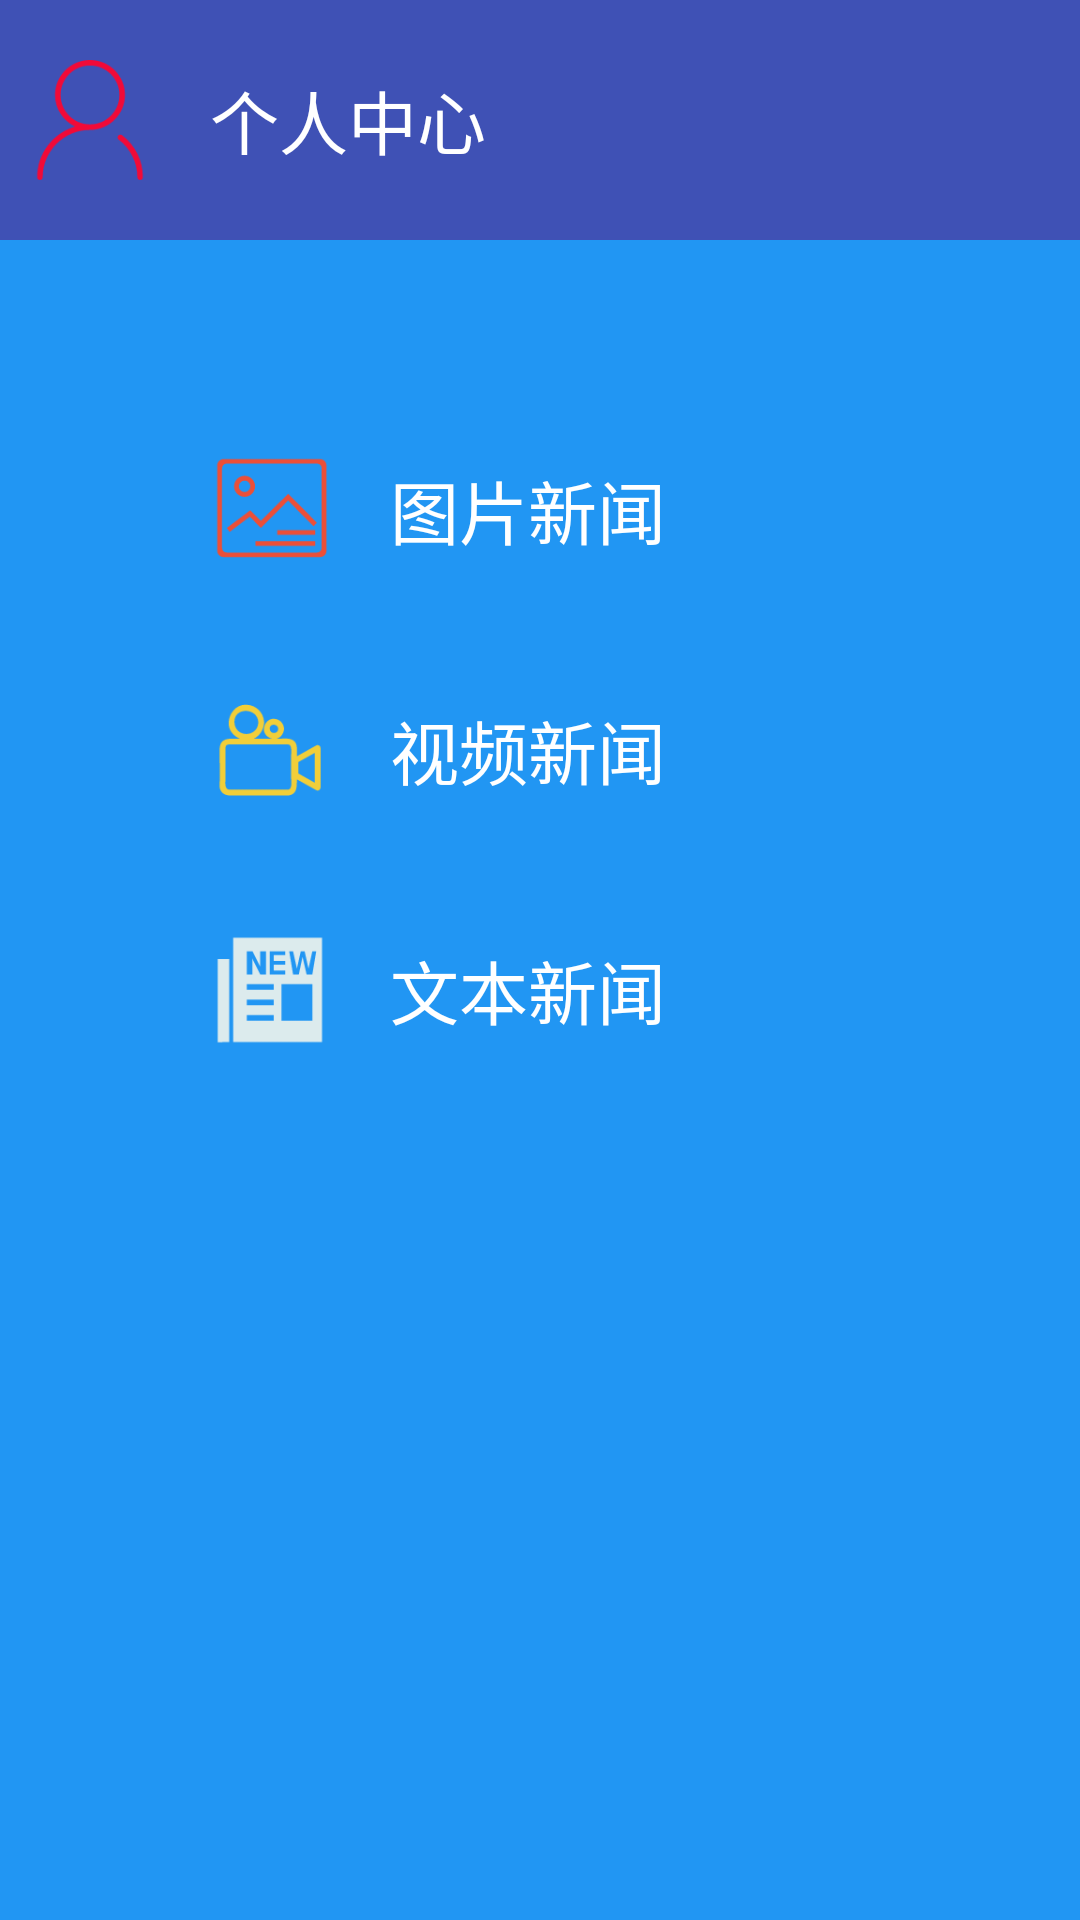

Named icons in this screenshot (1080x1920) and their centers, (x=x, y=y):
newsperson: (x=90, y=120)
newspicture: (x=272, y=508)
newstext: (x=270, y=990)
newsvideo: (x=270, y=750)
